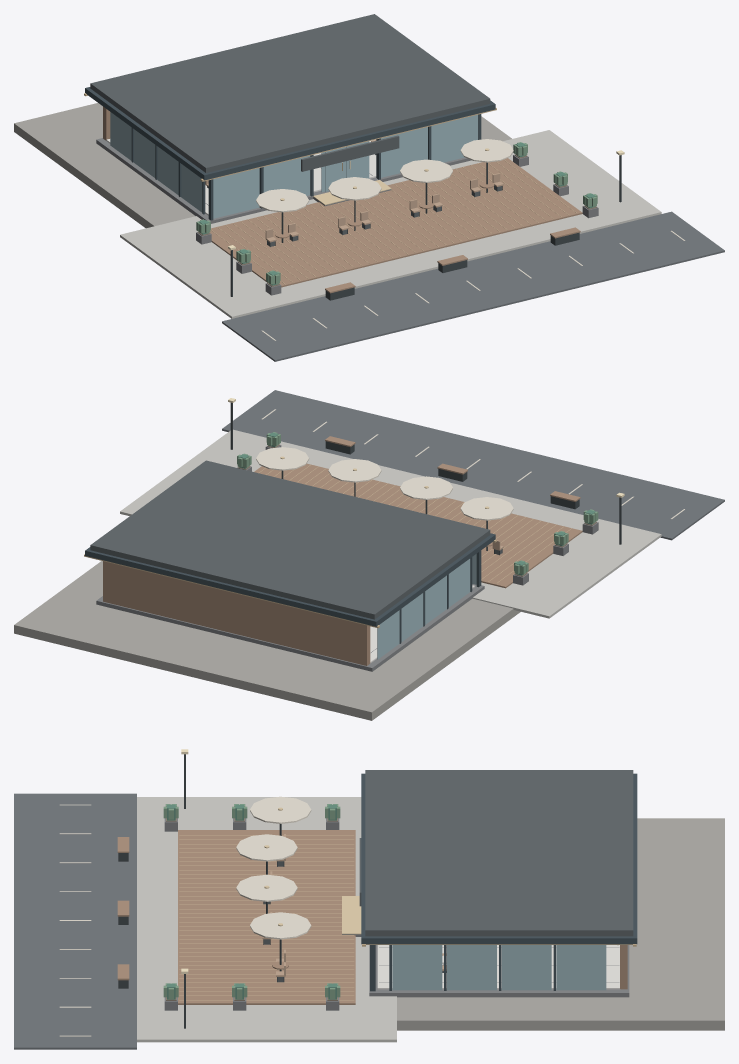
Rendered from coffee.glb.
The picture shows the model from 3 angles, top to bottom: view 1: azimuth 30°, elevation 25°; view 2: azimuth 150°, elevation 25°; view 3: azimuth 270°, elevation 25°; orthographic projection. The views are drawn at different scales.
Parts seen in each view (by area): view 1: charcoal, asphalt, walnut, pavement, glass, foundation, obsidian, cream, woodlight, stone, black, green2 (+2 smaller); view 2: charcoal, foundation, asphalt, walnut, pavement, cream, obsidian, glass, stone, woodlight, black, green2; view 3: charcoal, asphalt, foundation, walnut, pavement, glass, woodlight, cream, obsidian, stone, marble, green2 (+3 smaller).
Boxes of the visible parts, <box> form: charcoal: <box>90,14,501,246</box>; asphalt: <box>222,211,724,361</box>; walnut: <box>103,106,582,293</box>; pavement: <box>120,130,661,318</box>; glass: <box>110,112,478,218</box>; foundation: <box>14,103,511,228</box>; obsidian: <box>85,87,495,220</box>; cream: <box>256,139,513,212</box>; woodlight: <box>211,159,576,284</box>; stone: <box>96,138,598,295</box>; black: <box>207,154,621,300</box>; green2: <box>196,142,597,284</box>; charcoal: <box>90,460,502,619</box>; foundation: <box>14,561,520,720</box>; asphalt: <box>222,390,724,540</box>; walnut: <box>103,436,582,665</box>; pavement: <box>120,429,661,618</box>; cream: <box>256,447,513,520</box>; obsidian: <box>85,533,495,643</box>; glass: <box>377,554,476,659</box>; stone: <box>96,445,598,671</box>; woodlight: <box>258,465,571,583</box>; black: <box>230,402,621,555</box>; green2: <box>237,432,598,574</box>; charcoal: <box>264,770,633,982</box>; asphalt: <box>14,793,136,1049</box>; foundation: <box>397,818,724,1030</box>; walnut: <box>117,830,627,1004</box>; pavement: <box>137,797,396,1042</box>; glass: <box>392,945,606,990</box>; woodlight: <box>179,835,353,1000</box>; cream: <box>236,796,311,939</box>; obsidian: <box>361,773,637,991</box>; stone: <box>164,818,629,1010</box>; marble: <box>377,945,619,989</box>; green2: <box>163,804,340,998</box>.
Size of the model in its own units: 44 by 6.4 by 52.
